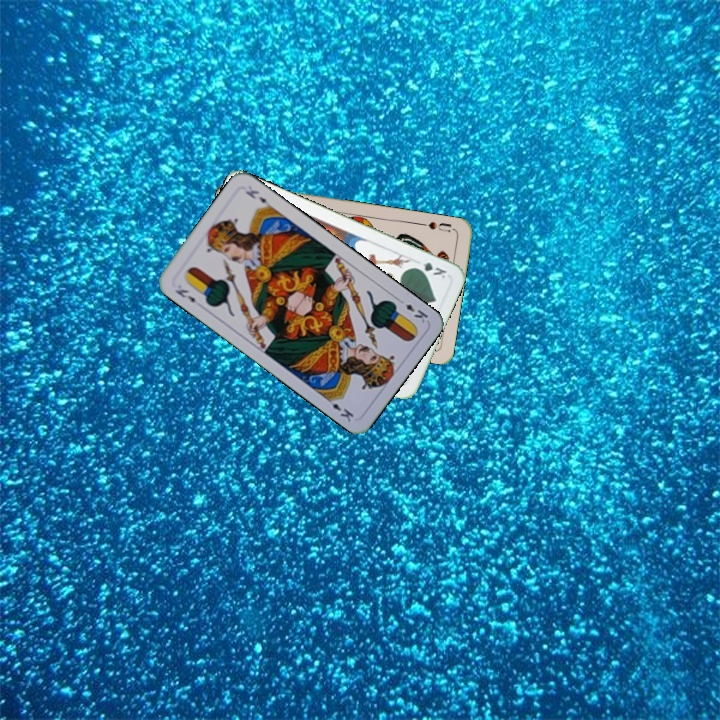EK: (394, 295, 431, 326), (171, 285, 198, 305)
GK: (410, 258, 450, 281)
SU: (416, 218, 454, 234)
